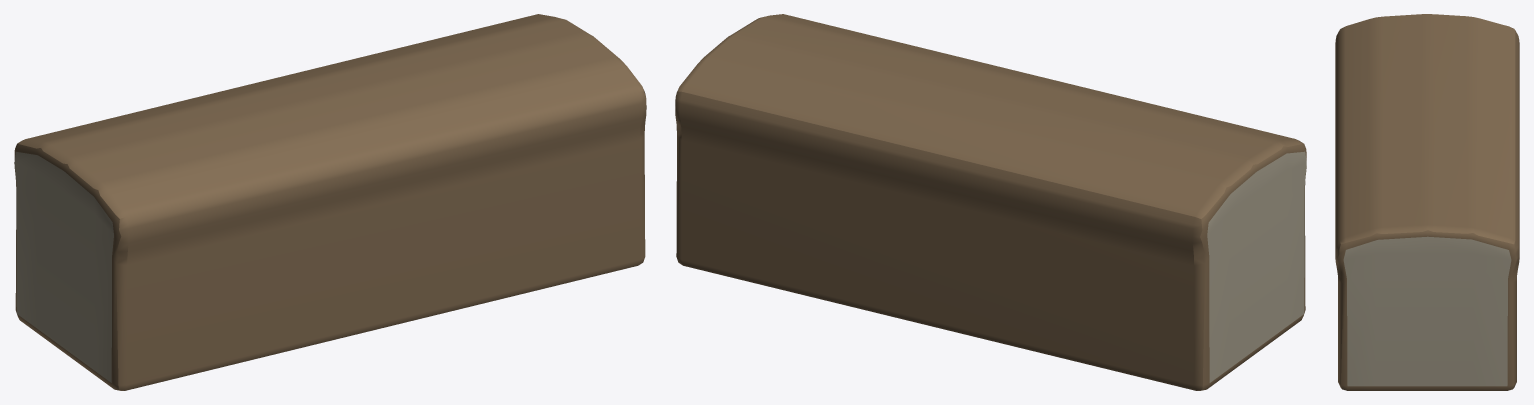
File: Bread_Loaf.fbx
3 views of the same model, side by side, from view 1: azimuth 30°, elevation 25°; view 2: azimuth 150°, elevation 25°; view 3: azimuth 270°, elevation 25° (orthographic). The views are drawn at different scales.
Parts seen in each view (by area): view 1: Bread_Loaf; view 2: Bread_Loaf; view 3: Bread_Loaf.
Part boxes in pixels (<box>): Bread_Loaf: <box>14,14,646,390</box>; Bread_Loaf: <box>675,14,1306,390</box>; Bread_Loaf: <box>1335,14,1519,390</box>.
Bounding box in the file's own units: 16.01 × 5.65 × 5.7.
